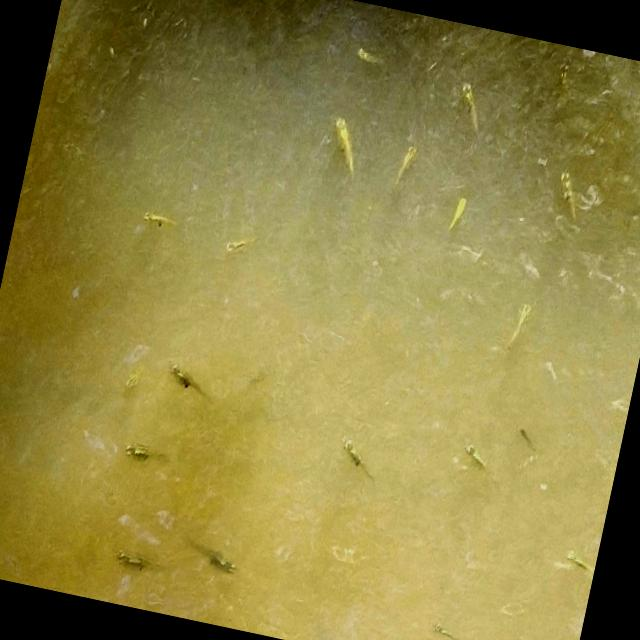Sivrisinek Baligi: (324, 108, 366, 180), (331, 432, 382, 486), (117, 434, 171, 475), (160, 358, 212, 399), (138, 192, 180, 242), (456, 434, 494, 480), (222, 223, 255, 260)
